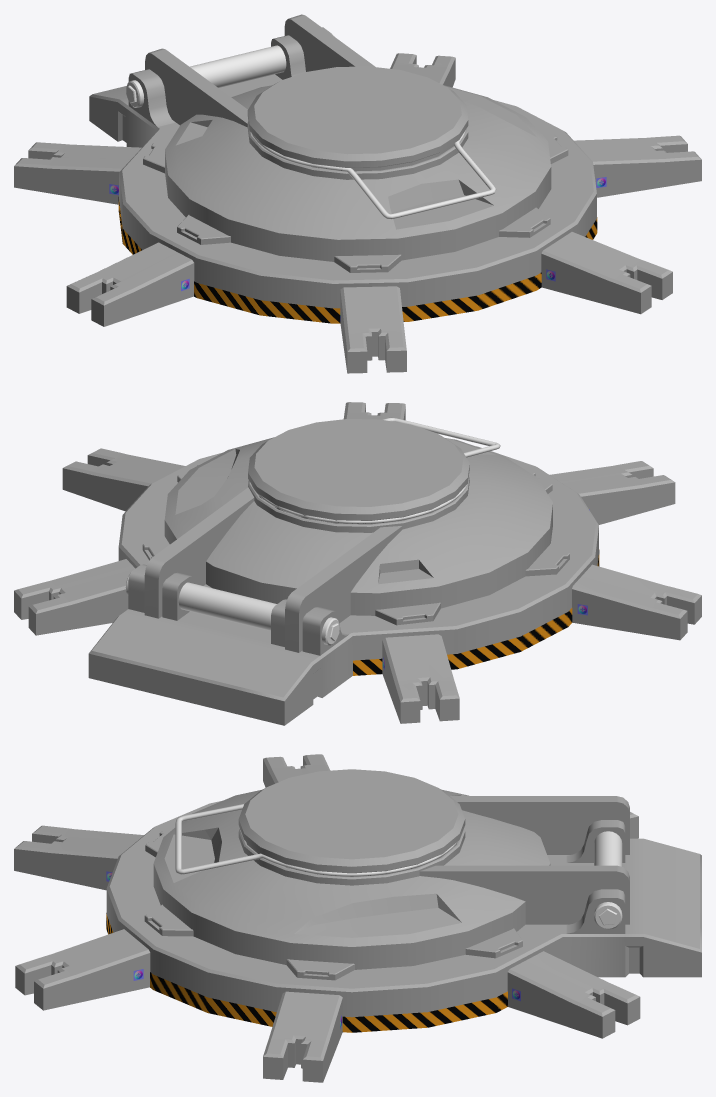
Rendered from S_Ecoutille.fbx.
3 views of the same model, one above another, from view 1: azimuth 30°, elevation 25°; view 2: azimuth 150°, elevation 25°; view 3: azimuth 270°, elevation 25° (orthographic). The views are drawn at different scales.
Parts seen in each view (by area): view 1: Ecoutille, Decal; view 2: Ecoutille, Decal; view 3: Ecoutille, Decal.
Boxes of the visible parts, <box> form: Ecoutille: <box>14,14,701,373</box>; Decal: <box>118,197,597,323</box>; Ecoutille: <box>14,402,701,725</box>; Decal: <box>353,549,599,675</box>; Ecoutille: <box>14,754,701,1082</box>; Decal: <box>106,913,507,1032</box>.
Bounding box in the file's own units: 477 × 83.35 × 453.
4 materials, 2 textured.
